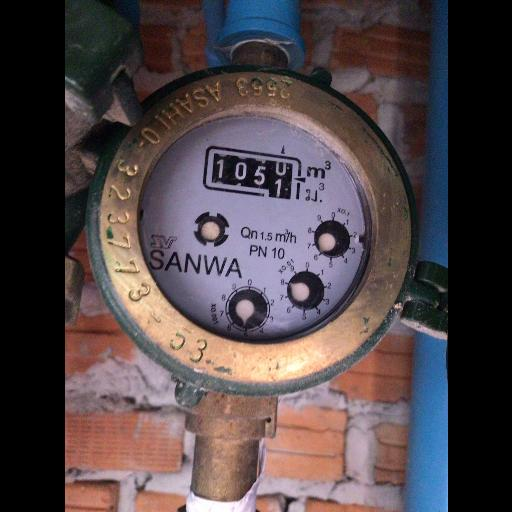0: (270, 161, 291, 199), (231, 155, 249, 187)
1: (212, 153, 229, 185)
5: (250, 158, 270, 190)
border_water_meter_number: (200, 144, 308, 202)
